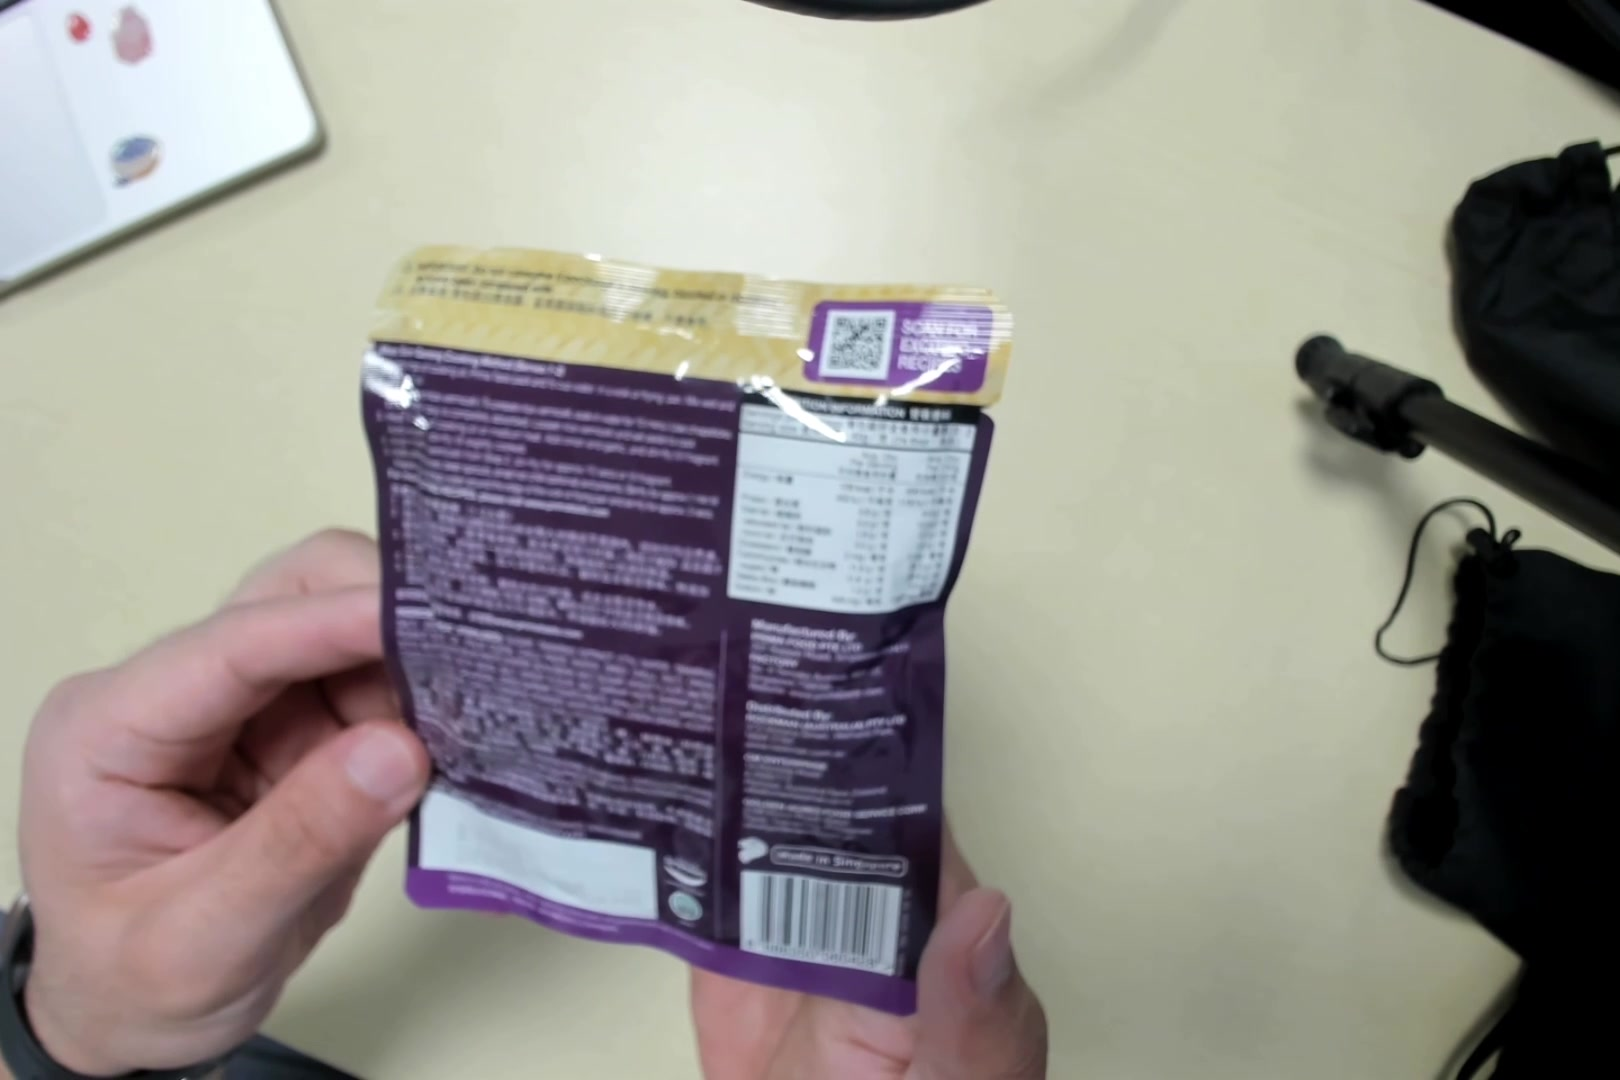CurryPastePowderSauce_0-99g_NonHalal_NonHealthy: (365, 247, 965, 1010)
